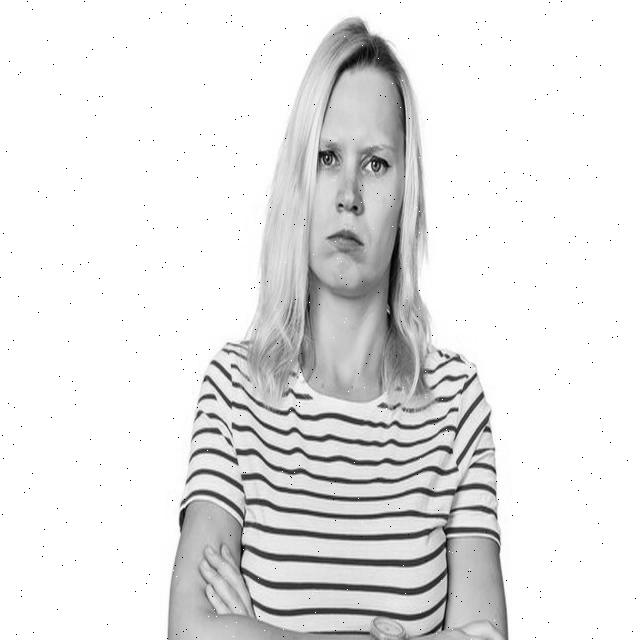Angry: (306, 68, 404, 290)
